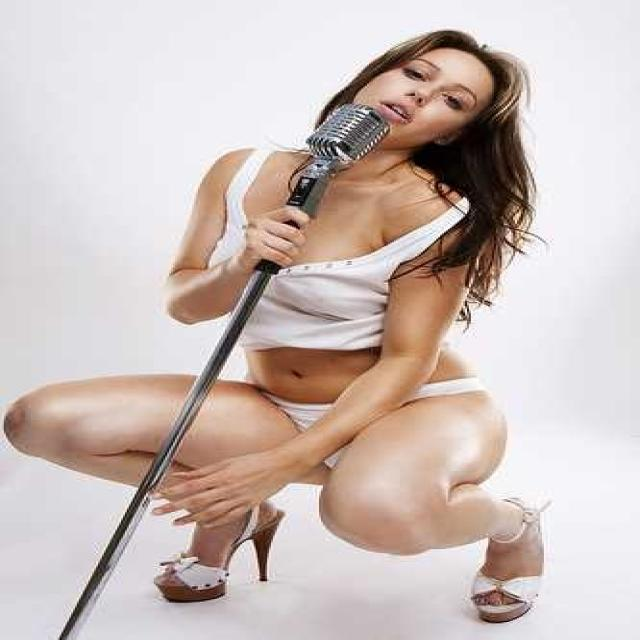microphone: (281, 100, 397, 206)
